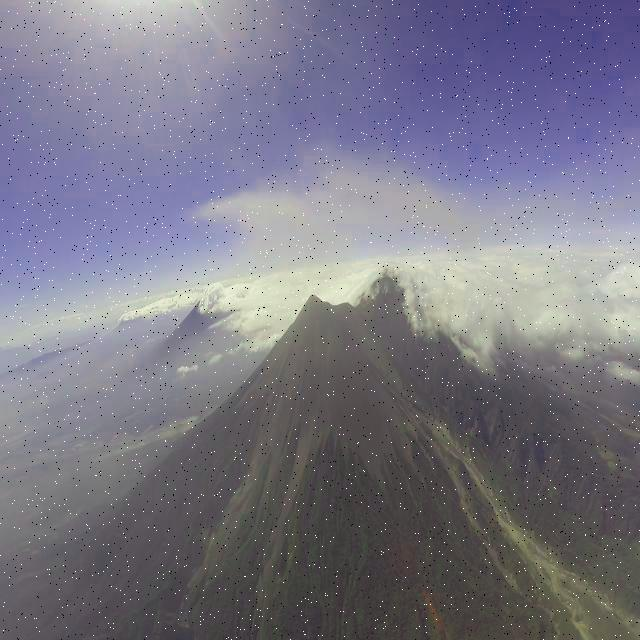Summit: (298, 294, 333, 314)
